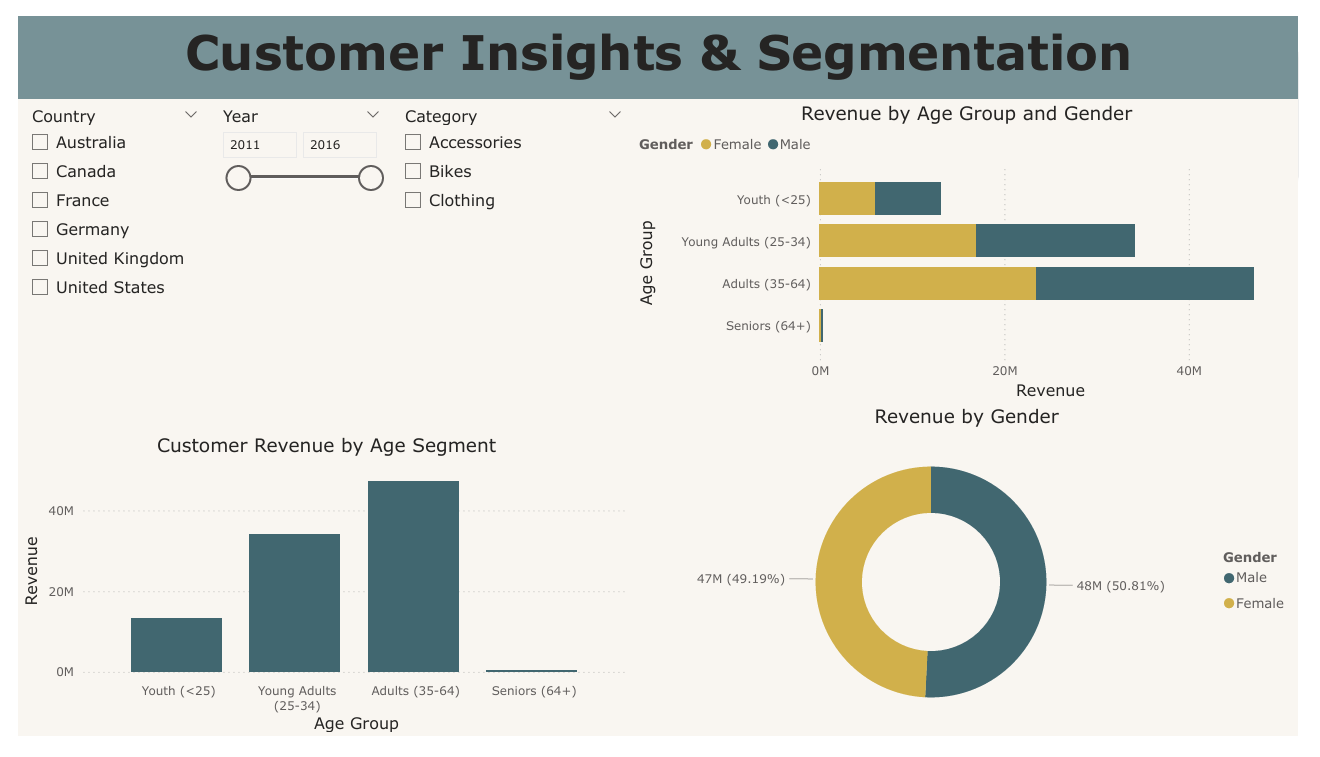

This screenshot's page, from the dashboard's own definition file:
{"tool":"powerbi","page":{"name":"Customer Analysis","canvas":[1280,720],"ordinal":2},"visuals":[{"type":"textbox","box":[0,0,1280,83.2],"z":0},{"type":"clusteredColumnChart","title":"Customer Revenue by Age Segment","fields":{"Y":["Sum(Sales_Cleaned.Revenue)"],"Category":["Sales_Cleaned.Age_Group"]},"box":[0,416.3,614.7,303.5],"z":1000},{"type":"donutChart","title":"Revenue by Gender","fields":{"Y":["Sum(Sales_Cleaned.Revenue)"],"Category":["Sales_Cleaned.Gender"]},"box":[614.7,387.1,665.3,332.6],"z":2000},{"type":"barChart","title":"Revenue by Age Group and Gender","fields":{"Category":["Sales_Cleaned.Age_Group"],"Series":["Sales_Cleaned.Gender"],"Y":["Sum(Sales_Cleaned.Revenue)"]},"box":[614.7,83.6,665.3,303.5],"z":3000},{"type":"slicer","fields":{"Values":["Sales_Cleaned.Country"]},"box":[0,83.6,190.6,303.5],"z":4000},{"type":"slicer","fields":{"Values":["Sales_Cleaned.Year"]},"box":[190.6,83.6,181.9,303.5],"z":5000},{"type":"slicer","fields":{"Values":["Sales_Cleaned.Product_Category"]},"box":[372.5,83.6,242.2,303.5],"z":6000}]}

Visuals, with their boxes in screenshot pixels (x1, y1, x2, y2), scaled from the page's 1280x720 canvas onto the 1320x757 screenshot:
textbox: Rect(0, 0, 1319, 87)
"Customer Revenue by Age Segment" clusteredColumnChart: Rect(0, 438, 634, 756)
"Revenue by Gender" donutChart: Rect(634, 407, 1319, 756)
"Revenue by Age Group and Gender" barChart: Rect(634, 88, 1319, 407)
slicer - Sales_Cleaned.Country: Rect(0, 88, 197, 407)
slicer - Sales_Cleaned.Year: Rect(197, 88, 384, 407)
slicer - Sales_Cleaned.Product_Category: Rect(384, 88, 634, 407)
